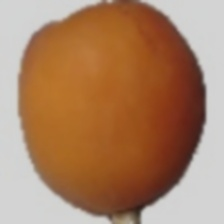apricot: (17, 17, 202, 191)
